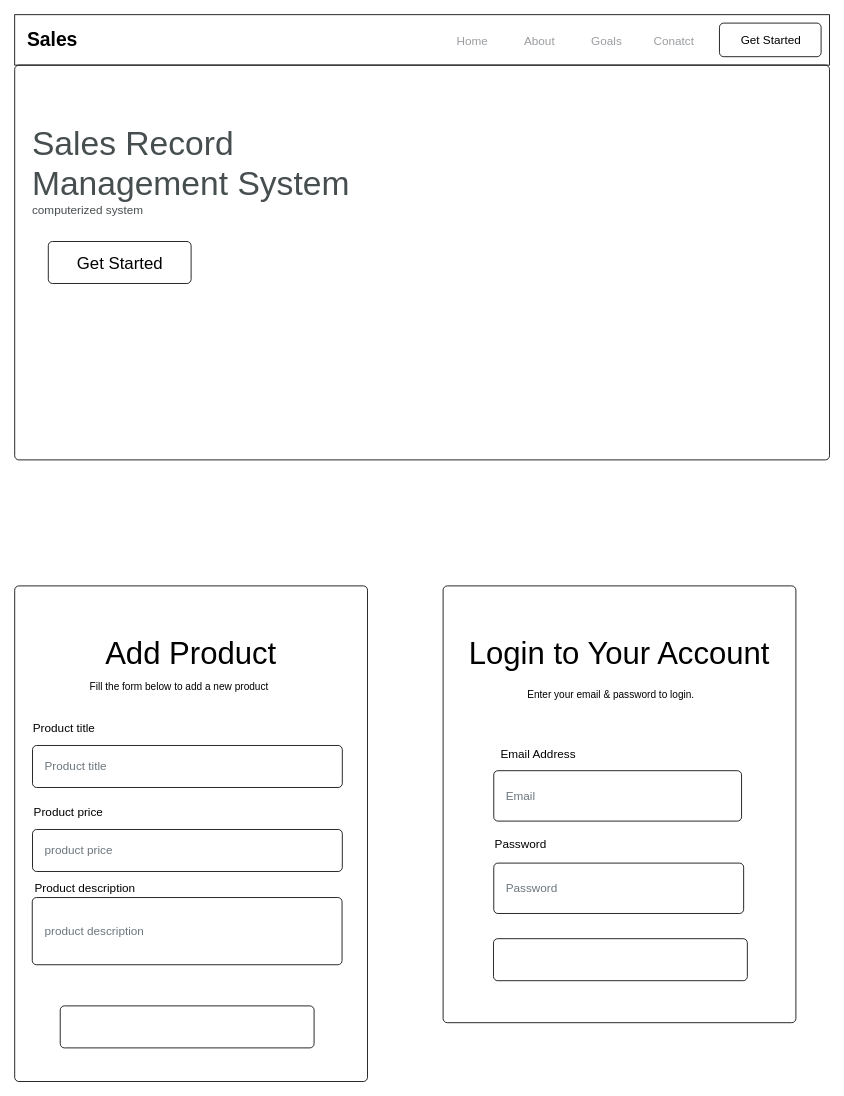
Some shapes in this 844 by 1096 pixel diagram are drawn without their labels. Each missing label, with the centre of its shape:
"Login" belongs at (620,959).
"Register" belongs at (186,1026).
